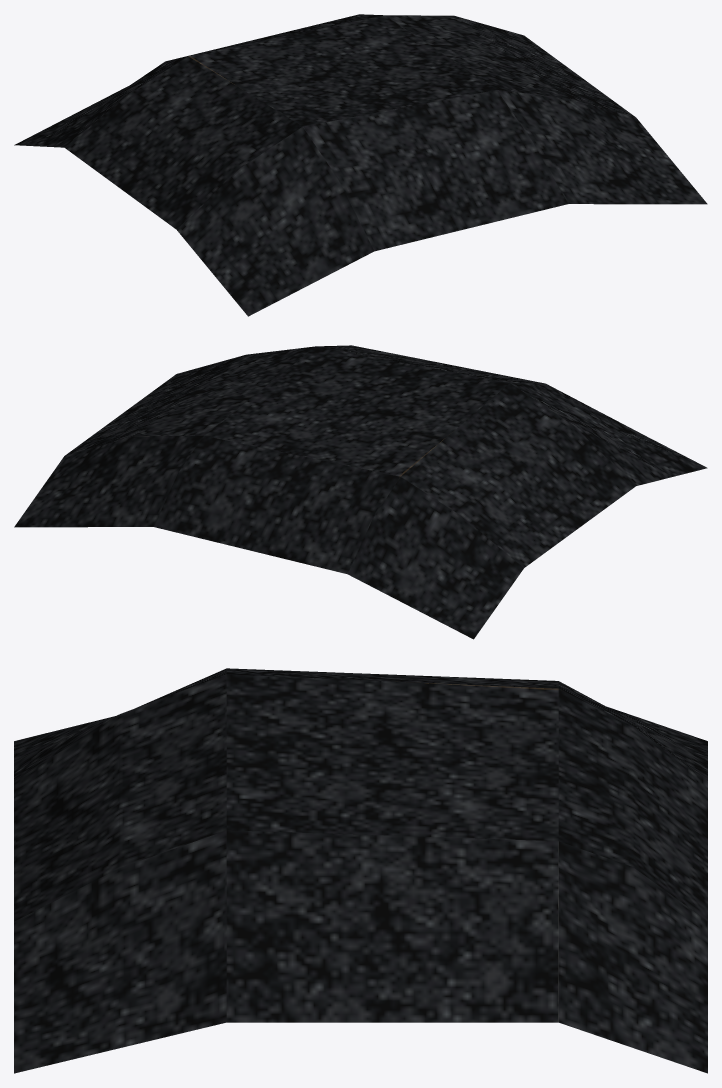
Rendered from SM_EC_Rock_Plane_Raised_02.fbx.
3 views of the same model, one above another, from view 1: azimuth 30°, elevation 25°; view 2: azimuth 150°, elevation 25°; view 3: azimuth 270°, elevation 25° (orthographic). The views are drawn at different scales.
Parts seen in each view (by area): view 1: SM_EC_Rock_Plane_Raised_02; view 2: SM_EC_Rock_Plane_Raised_02; view 3: SM_EC_Rock_Plane_Raised_02.
Boxes of the visible parts, left/top/right/bottom form: SM_EC_Rock_Plane_Raised_02: left=14, top=14, right=707, bottom=316; SM_EC_Rock_Plane_Raised_02: left=14, top=345, right=707, bottom=639; SM_EC_Rock_Plane_Raised_02: left=14, top=668, right=707, bottom=1073.
Size of the model in its own units: 2.37 by 2.09 by 0.5255.
